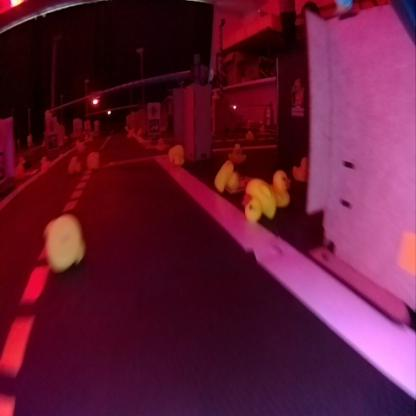Duckie: (42, 214, 84, 270), (243, 179, 274, 220), (268, 168, 289, 207), (214, 160, 240, 184), (228, 143, 246, 161), (293, 157, 306, 181), (166, 144, 182, 163), (67, 156, 79, 172), (87, 152, 98, 167)
QR code: (149, 118, 159, 132)
